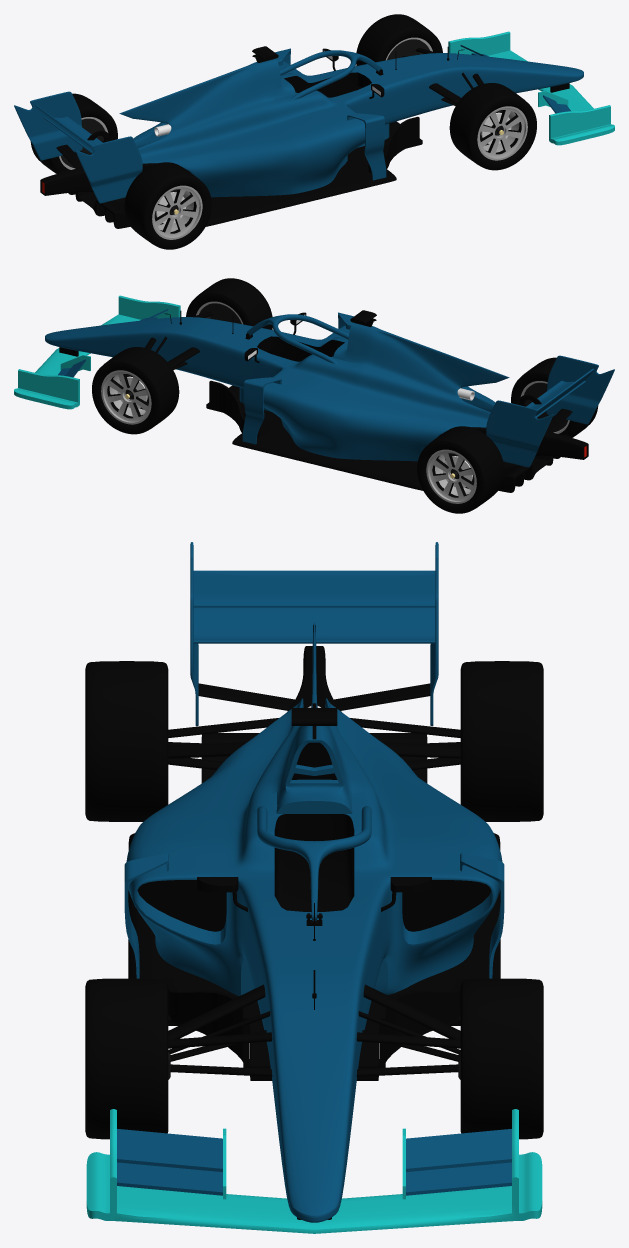
File: formula-2-ocean-cyan.glb
The picture shows the model from 3 angles, top to bottom: view 1: azimuth 30°, elevation 25°; view 2: azimuth 150°, elevation 25°; view 3: azimuth 270°, elevation 25°; orthographic projection. The views are drawn at different scales.
Parts seen in each view (by area): view 1: Cube, Cylinder, Cylinder.003; view 2: Cube, Cylinder, Cylinder.003; view 3: Cube, Cylinder.003, Cylinder.
Part boxes in pixels (bbox=[...]): Cube: bbox=[14, 31, 614, 228]; Cylinder: bbox=[356, 14, 536, 170]; Cylinder.003: bbox=[30, 93, 211, 249]; Cube: bbox=[14, 295, 614, 492]; Cylinder: bbox=[92, 278, 272, 434]; Cylinder.003: bbox=[417, 357, 598, 513]; Cube: bbox=[86, 542, 542, 1233]; Cylinder.003: bbox=[85, 661, 543, 821]; Cylinder: bbox=[85, 978, 543, 1139].
Size of the model in its own units: 9.26 by 1.98 by 3.4.
